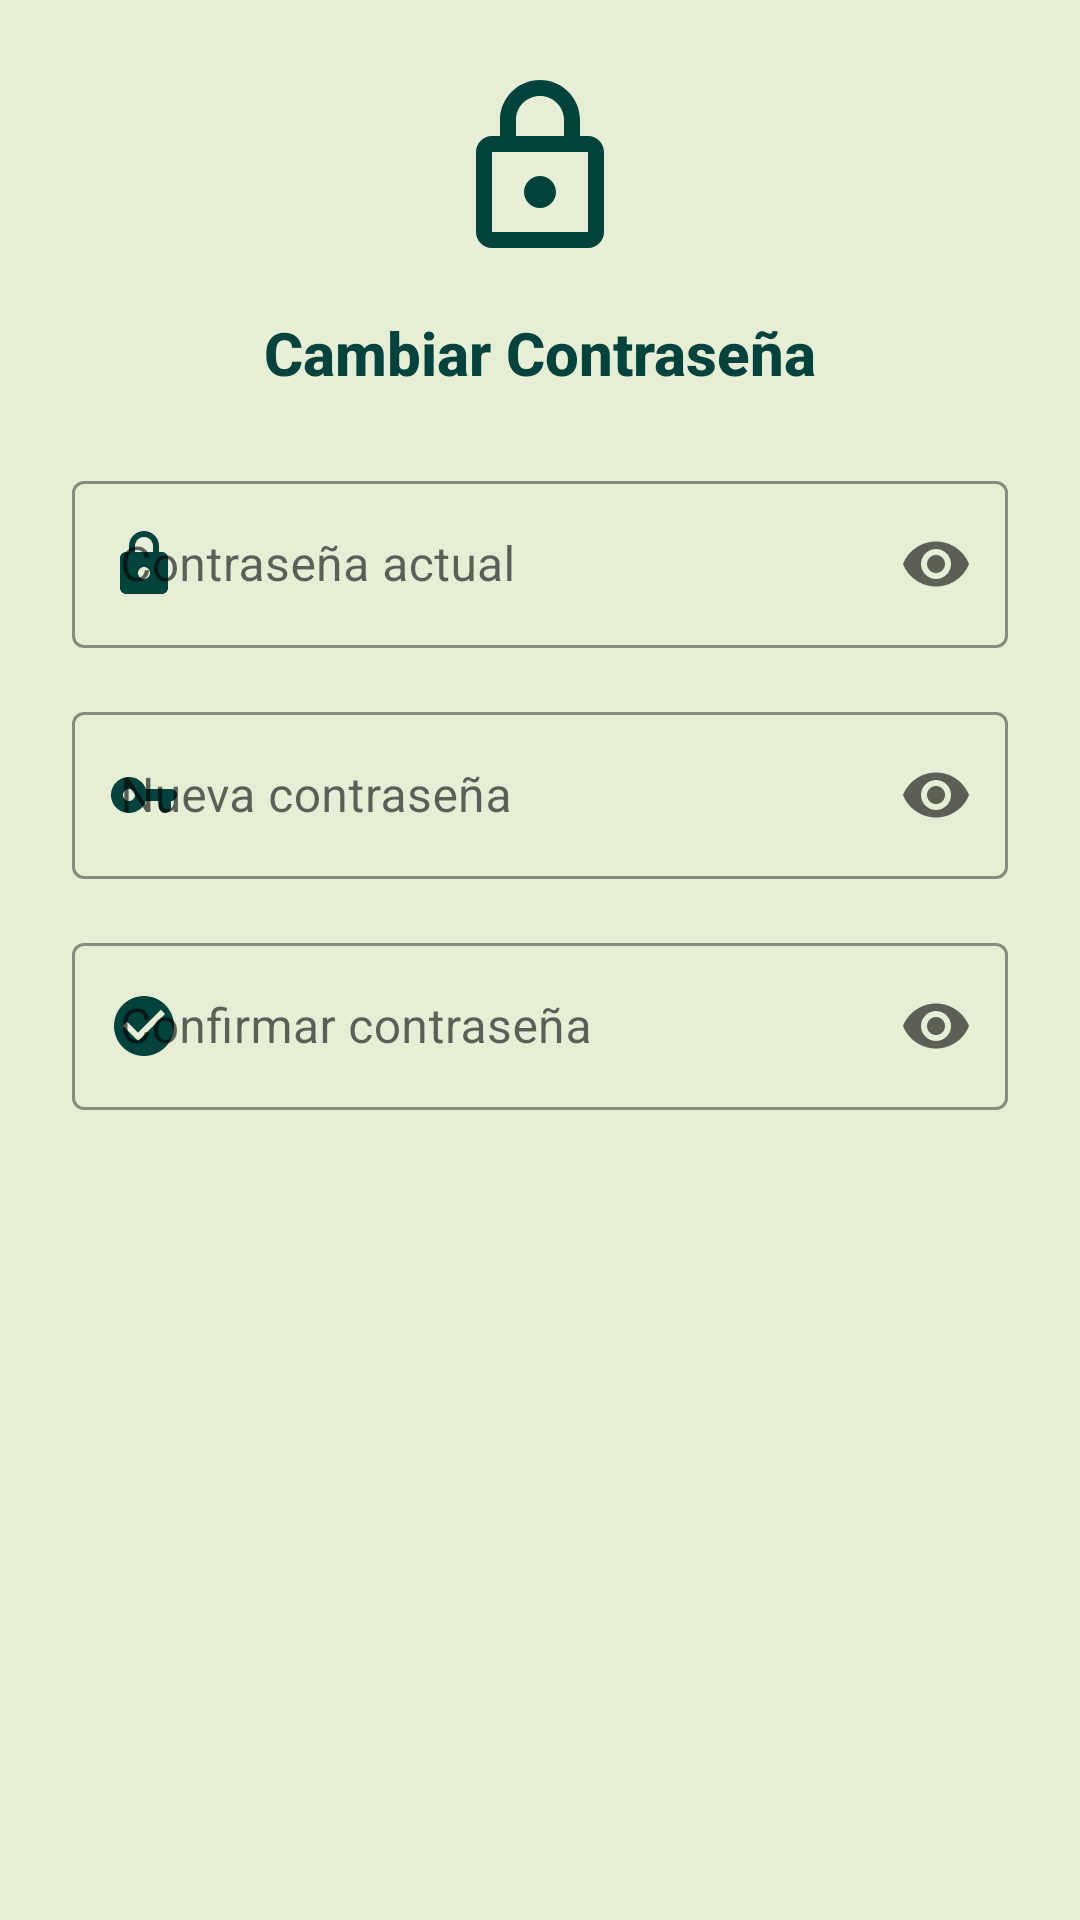

Locate icon controls on the screen. Image size 1080*1920, boxes as (x1, y1, x2, y2).
Icono de candado: (476, 80, 604, 248)
